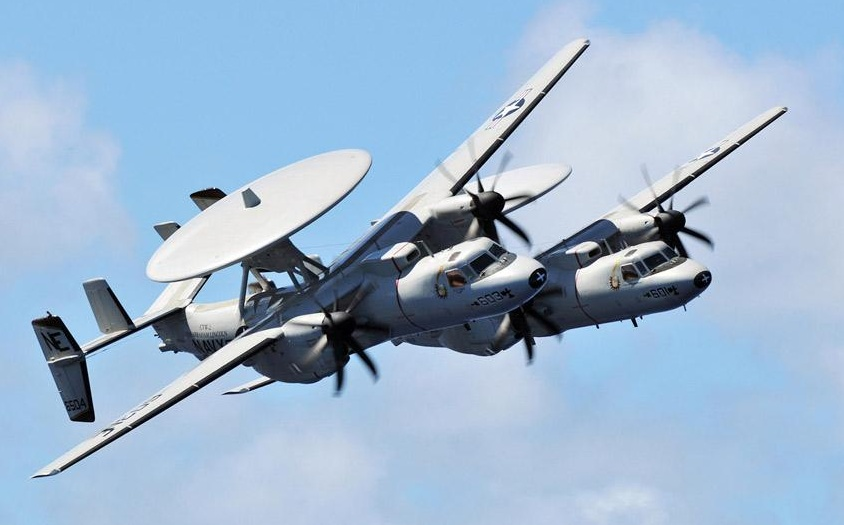E2: (28, 37, 591, 480), (220, 106, 789, 396)
